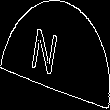N_S: (39, 26, 71, 84)
